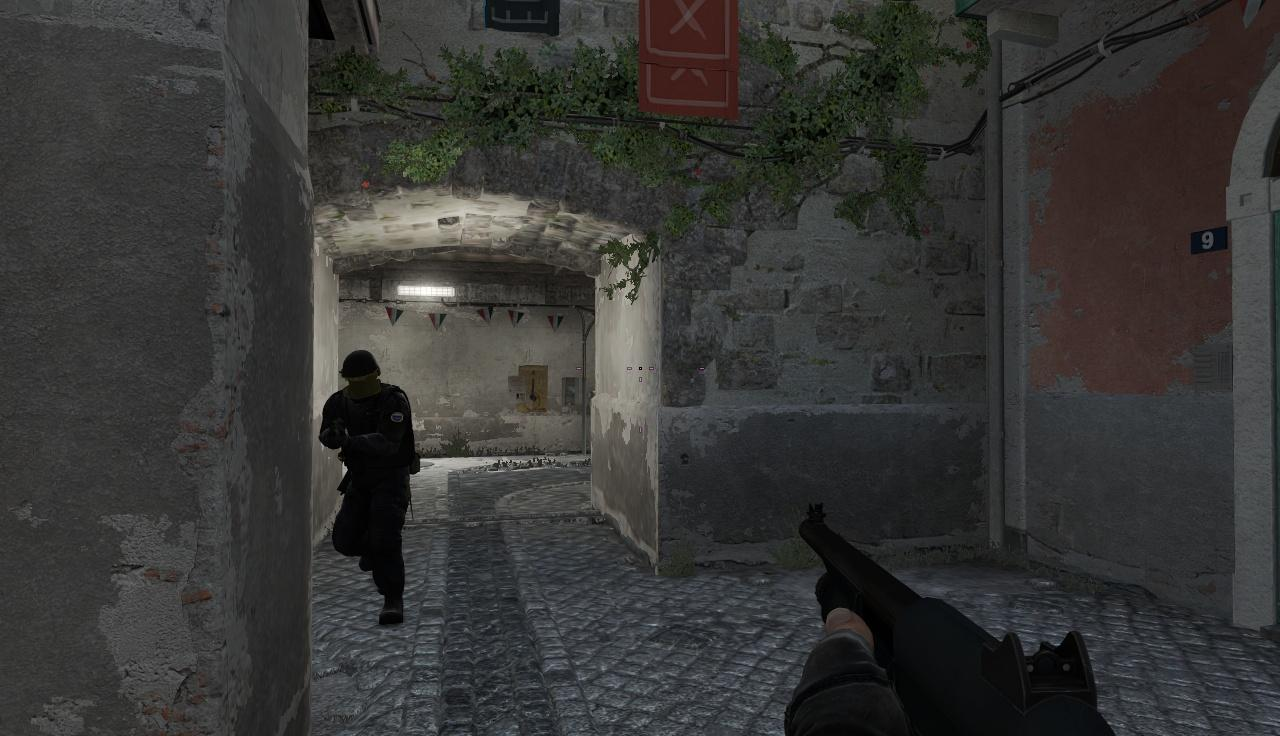ct: (325, 349, 416, 624)
cthead: (340, 350, 382, 398)
shotgun: (789, 500, 1124, 736)
